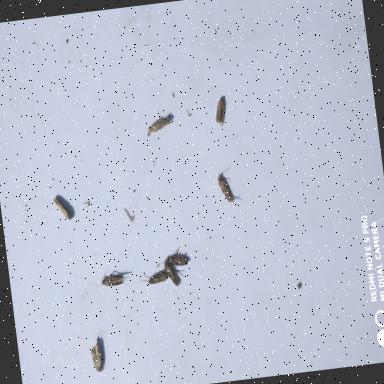pbw: (214, 172, 237, 206), (160, 258, 184, 286), (160, 248, 190, 270), (144, 266, 170, 288), (144, 114, 171, 135), (88, 341, 105, 374), (52, 194, 72, 222), (100, 270, 128, 290), (212, 96, 228, 124)
